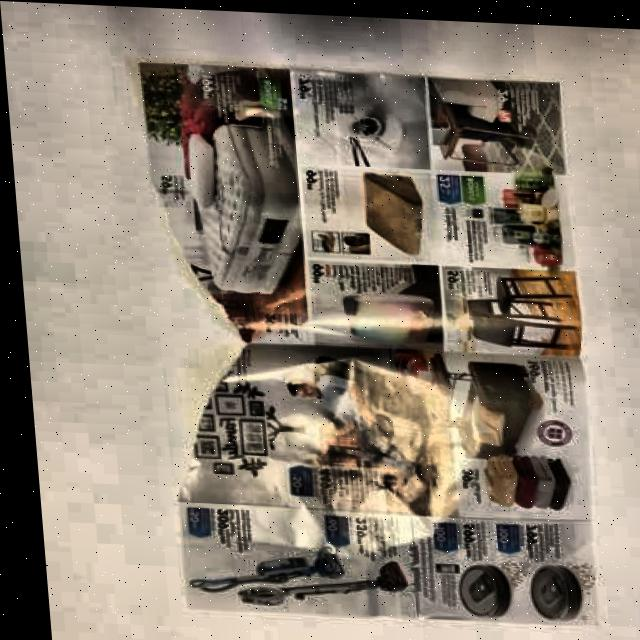paper: (136, 61, 605, 630)
